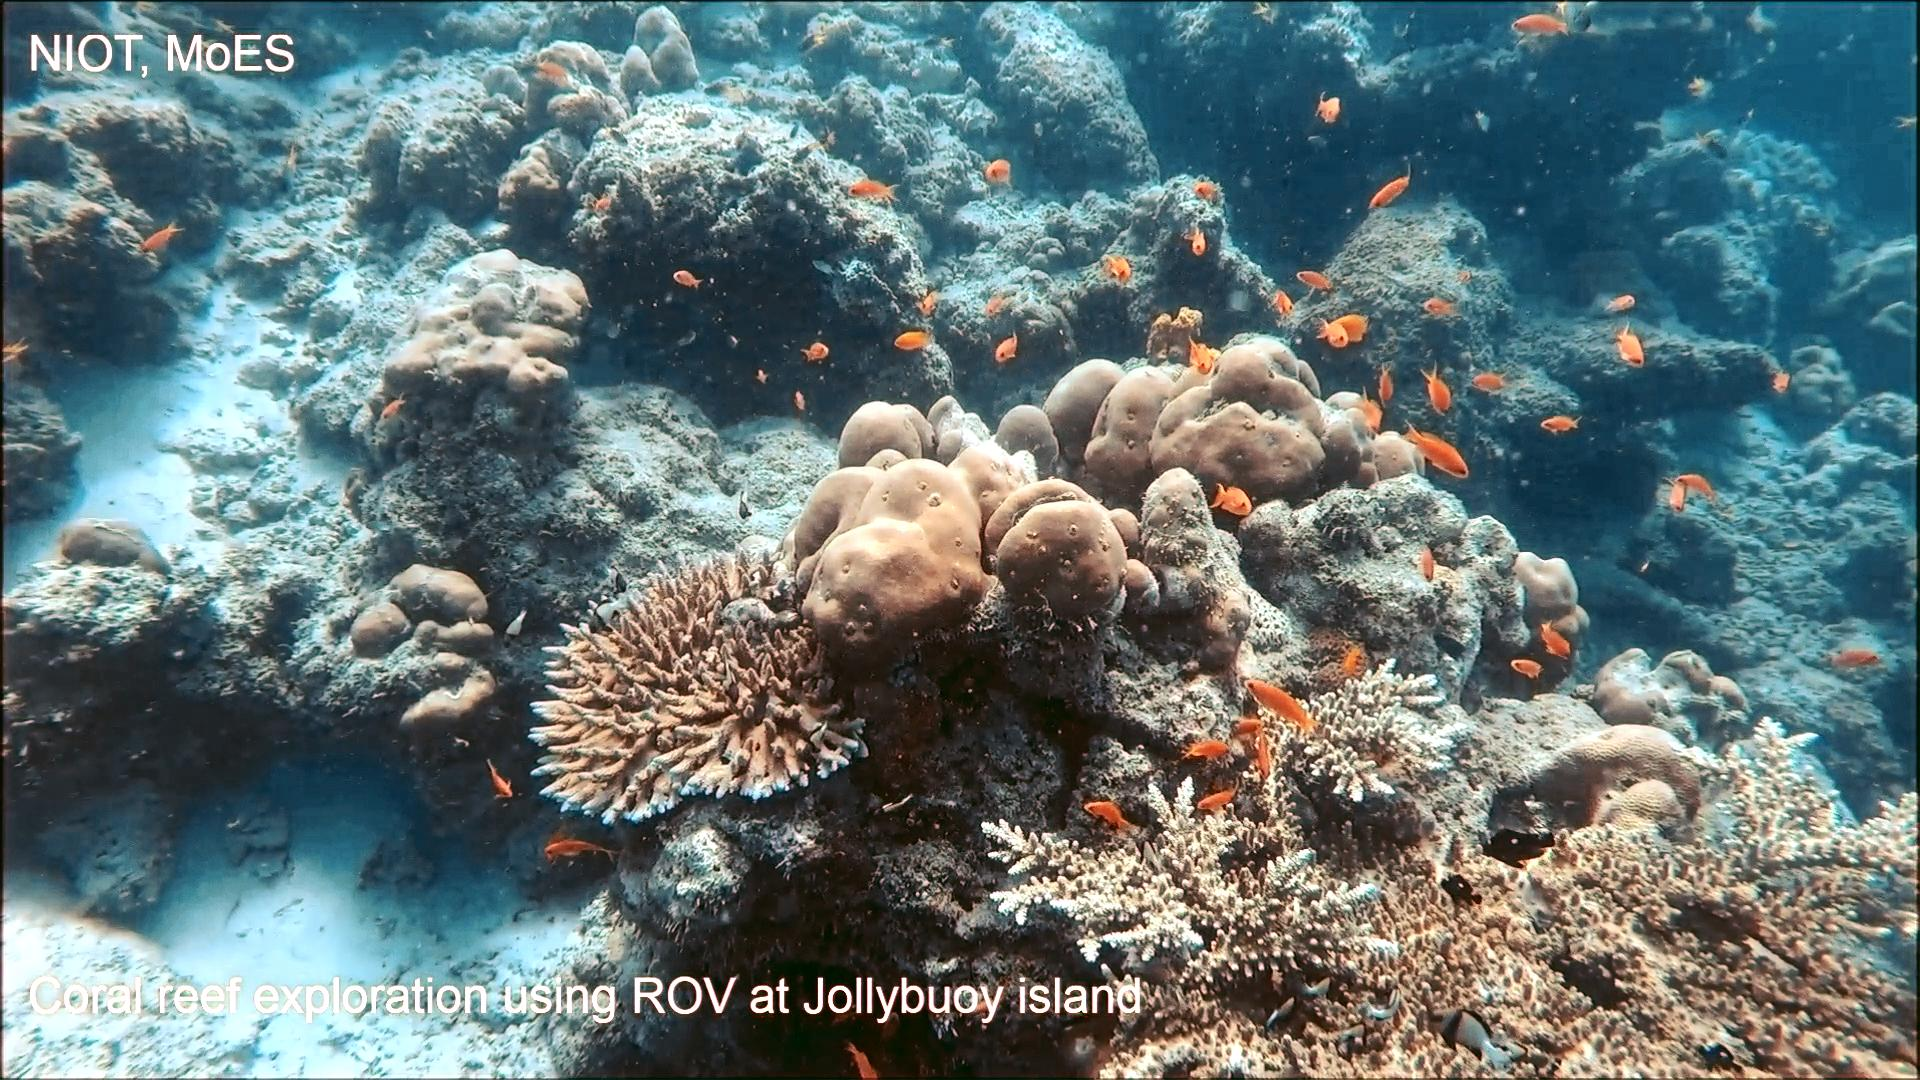Porites-Porites pukoensis: (767, 390, 1131, 686), (1026, 327, 1431, 510)
